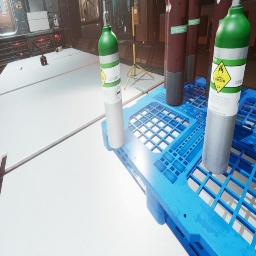0: (202, 0, 251, 174), (98, 0, 125, 149), (221, 4, 246, 23), (55, 46, 63, 52)
EmergencyPhone ,: (17, 0, 22, 8), (103, 17, 104, 25)
FireAlarm ,: (15, 3, 18, 9)
FirstAidBox ,: (40, 54, 47, 66)
NitrogenTank ,: (205, 0, 233, 101), (166, 0, 189, 107), (184, 0, 202, 83), (164, 0, 168, 89), (19, 52, 30, 59)
SafetySwitchPanel ,: (134, 0, 141, 25)
